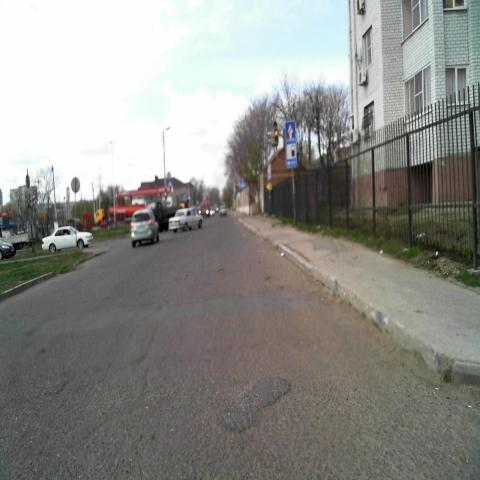5_6: (285, 120, 295, 140)
